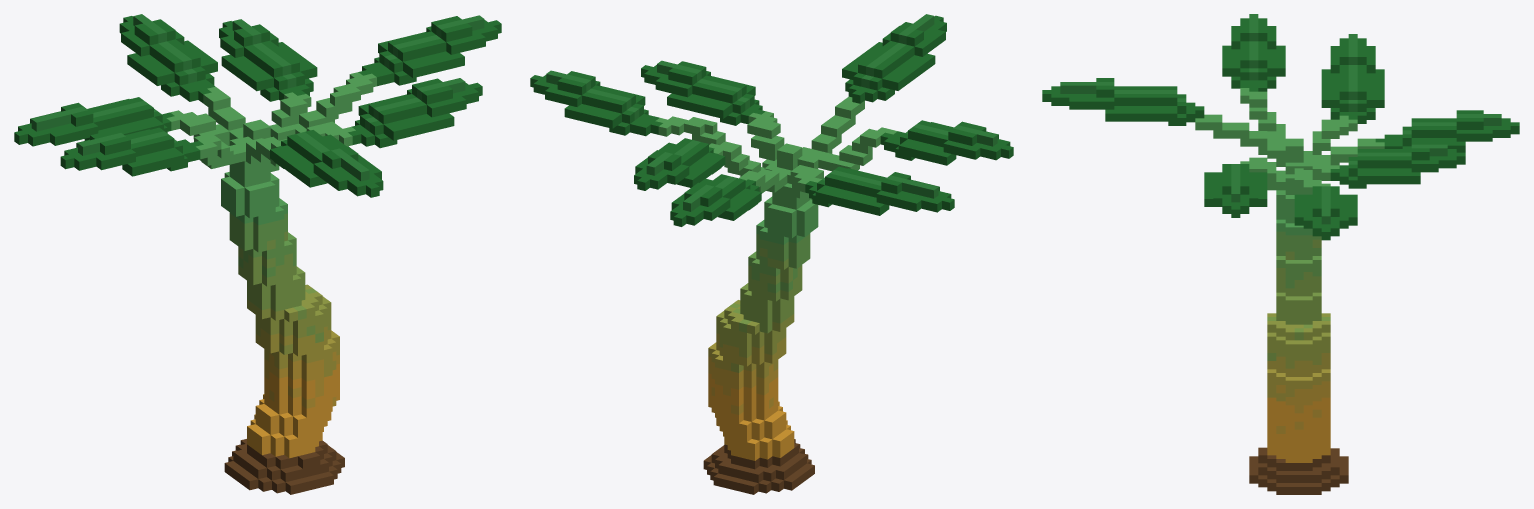
The model's file is 2_2 bana.obj.
3 views of the same model, side by side, from view 1: azimuth 30°, elevation 25°; view 2: azimuth 150°, elevation 25°; view 3: azimuth 270°, elevation 25° (orthographic). The views are drawn at different scales.
Size of the model in its own units: 5.5 by 4.5 by 5.3.
Materials: 1 (1 with a texture image).
